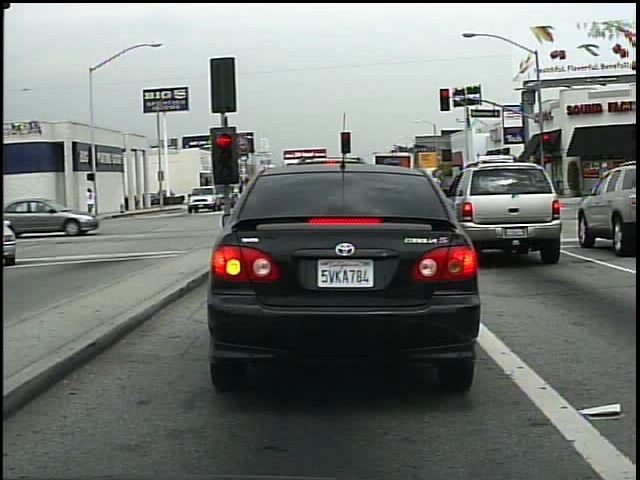person: (83, 187, 98, 218)
